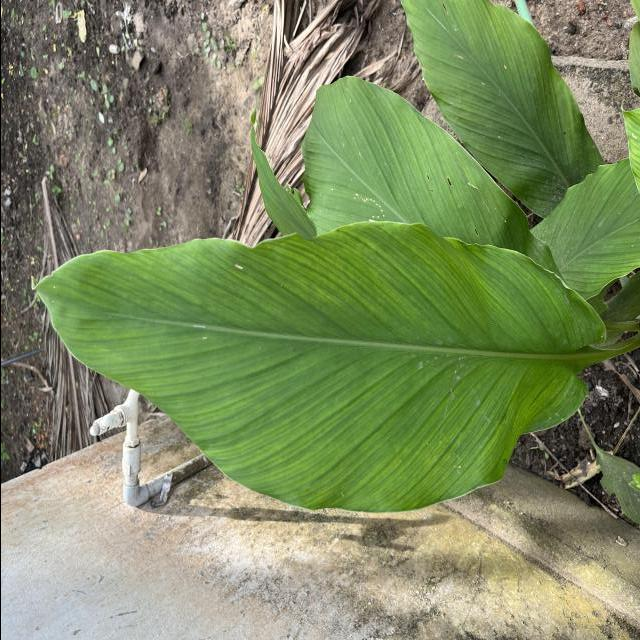Curcuma longa: (19, 212, 606, 521), (388, 0, 606, 227), (294, 70, 535, 244)
